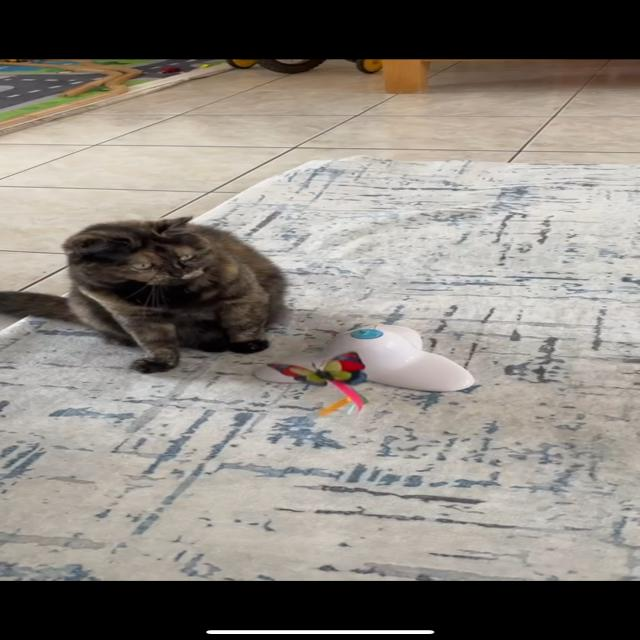authorized: (1, 215, 290, 374)
